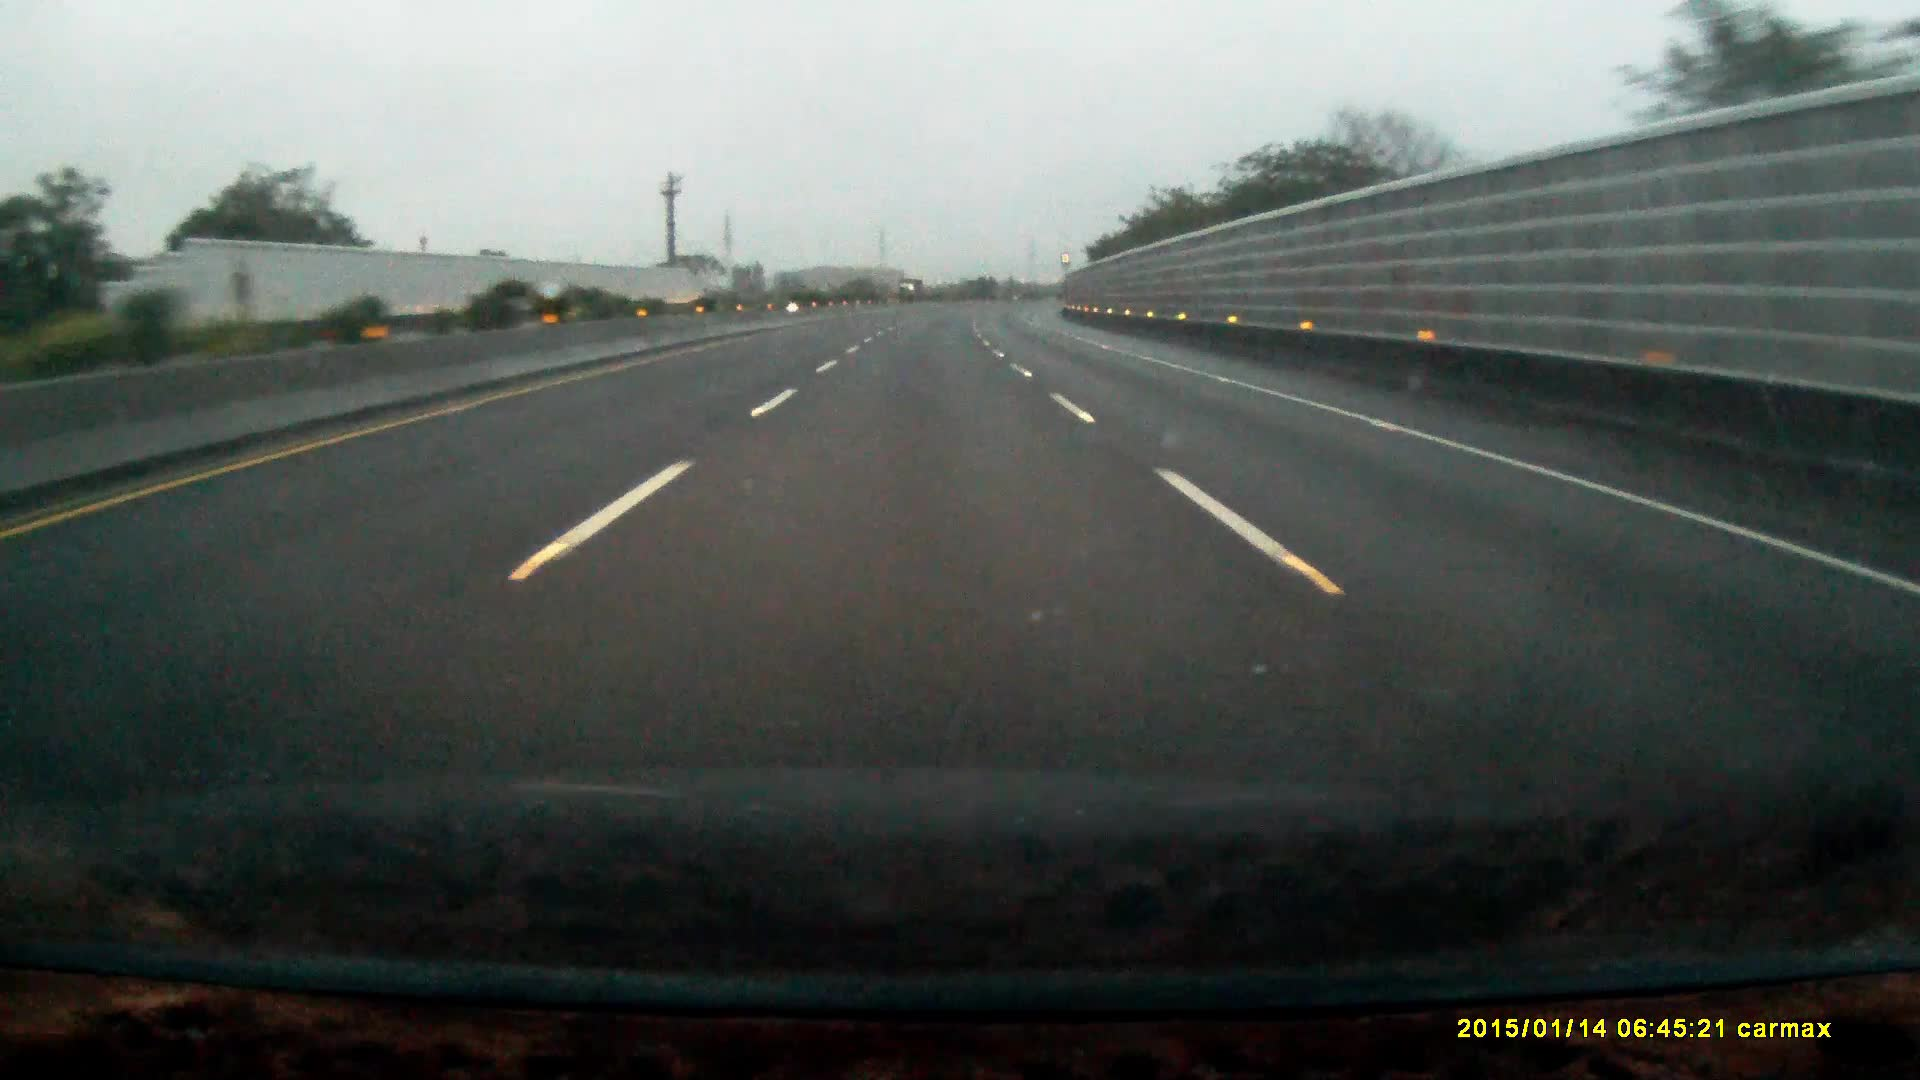vehicle: (899, 280, 923, 303)
